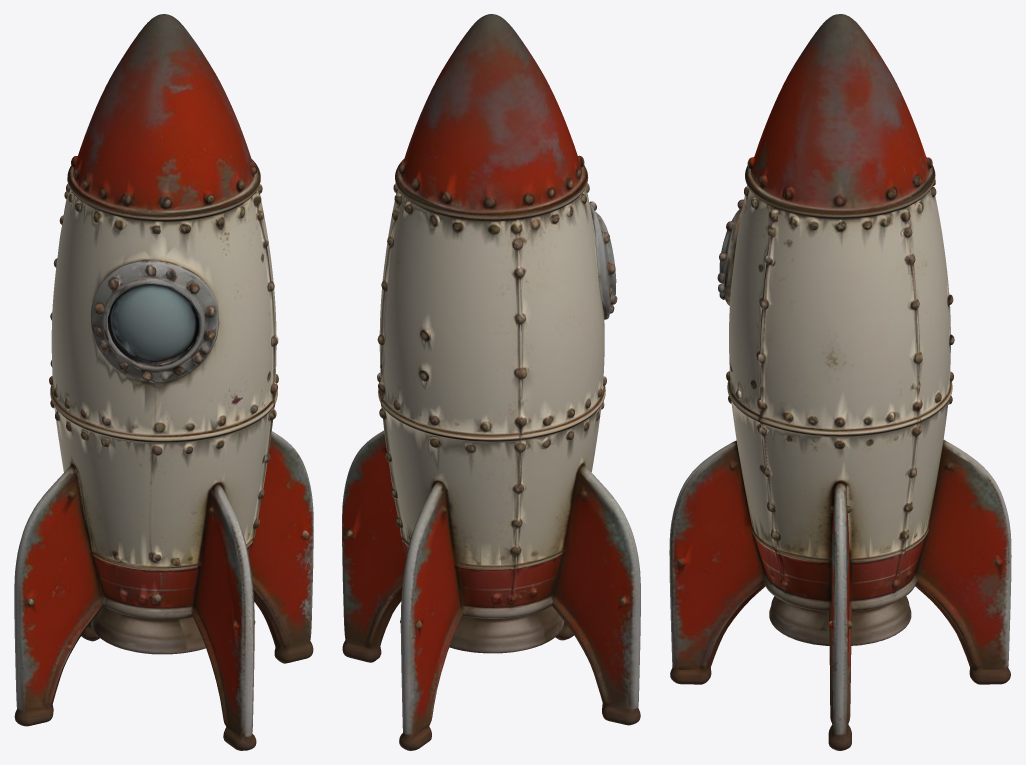
The model's file is rocket.glb.
3 renders of one model, left to right at view 1: azimuth 30°, elevation 25°; view 2: azimuth 150°, elevation 25°; view 3: azimuth 270°, elevation 25°, orthographic.
Parts seen in each view (by area): view 1: node_0; view 2: node_0; view 3: node_0.
Part boxes in pixels (bbox=[...]): node_0: bbox=[14, 14, 313, 750]; node_0: bbox=[342, 14, 640, 750]; node_0: bbox=[669, 14, 1011, 750].
Size of the model in its own units: 0.5056 by 1.1 by 0.5099.
Materials: 1 (1 with a texture image).
